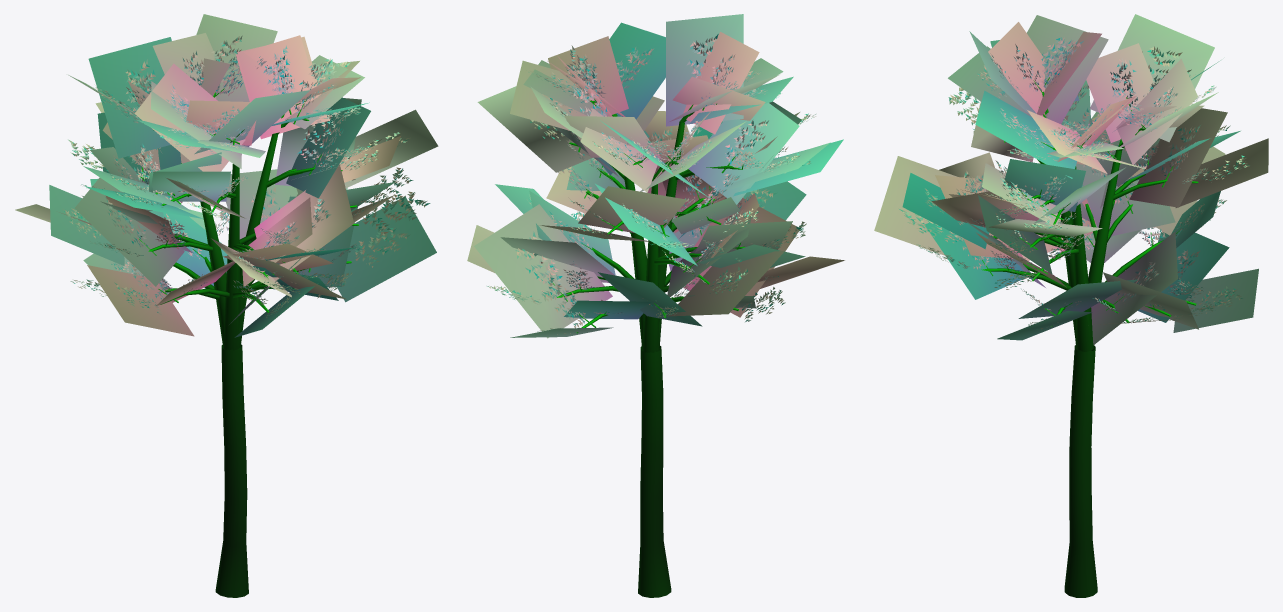
The model's file is hill_b_3.glb.
3 renders of one model, left to right at view 1: azimuth 30°, elevation 25°; view 2: azimuth 150°, elevation 25°; view 3: azimuth 270°, elevation 25°, orthographic.
Parts seen in each view (by area): view 1: mid, near; view 2: mid, near; view 3: mid, near.
Boxes of the visible parts, x1,y1,x2,y2 form: mid: (15, 14, 438, 350); near: (62, 35, 430, 597); mid: (467, 14, 844, 352); near: (487, 34, 815, 597); mid: (874, 14, 1268, 351); near: (899, 37, 1249, 597).
Bounding box in the file's own units: 8.17 × 12.25 × 8.05.
